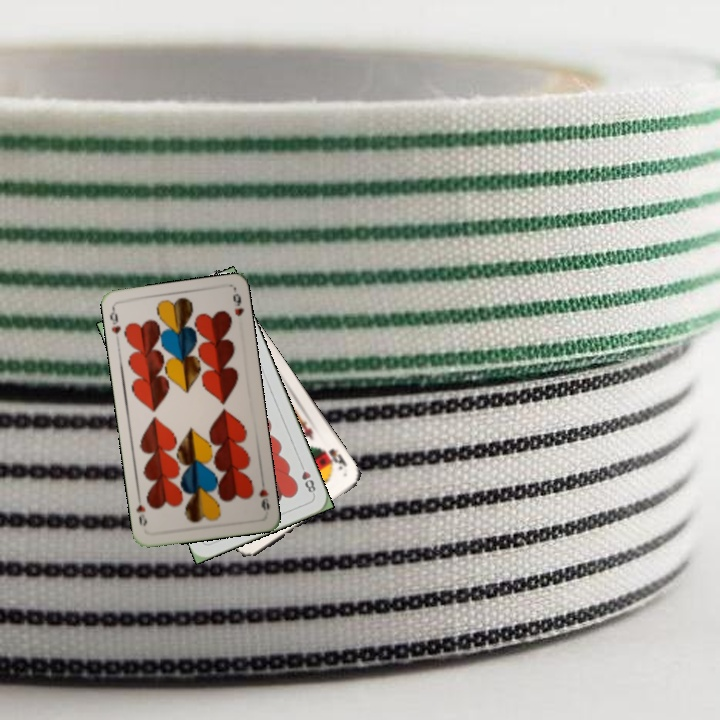H8: (296, 459, 318, 498)
H9: (106, 305, 123, 337), (255, 485, 272, 513)
SK: (317, 443, 350, 473)
